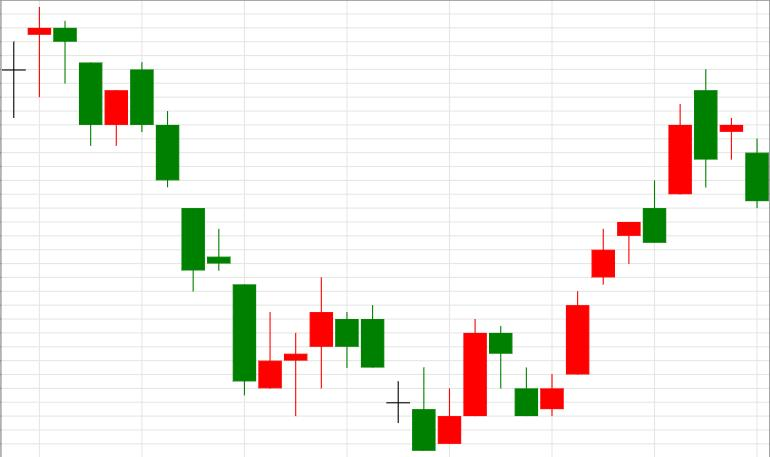inverse_hammer_rise: (131, 63, 282, 396)
